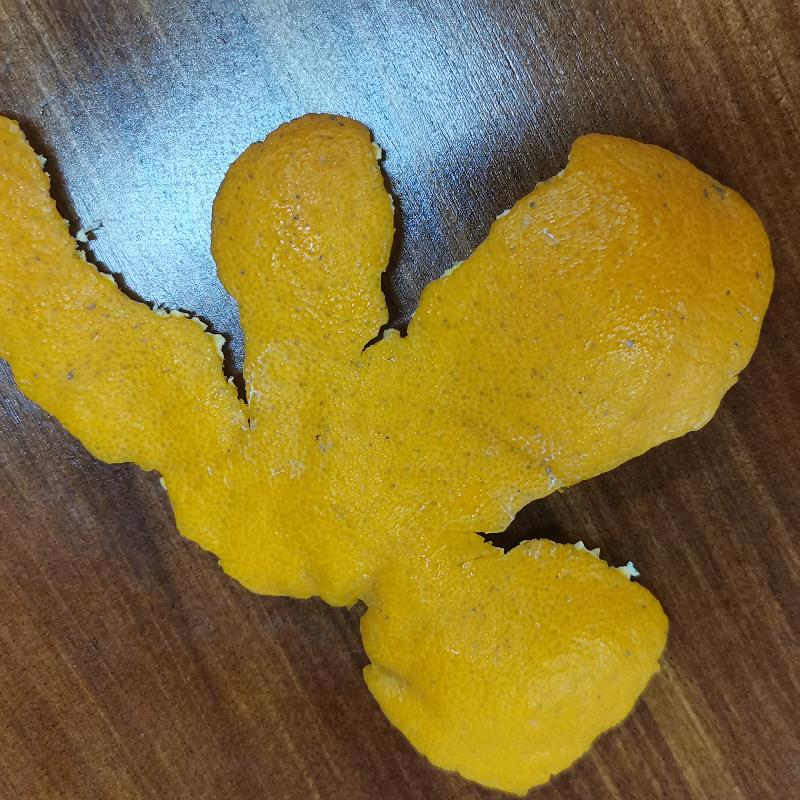orange: (4, 86, 777, 785)
